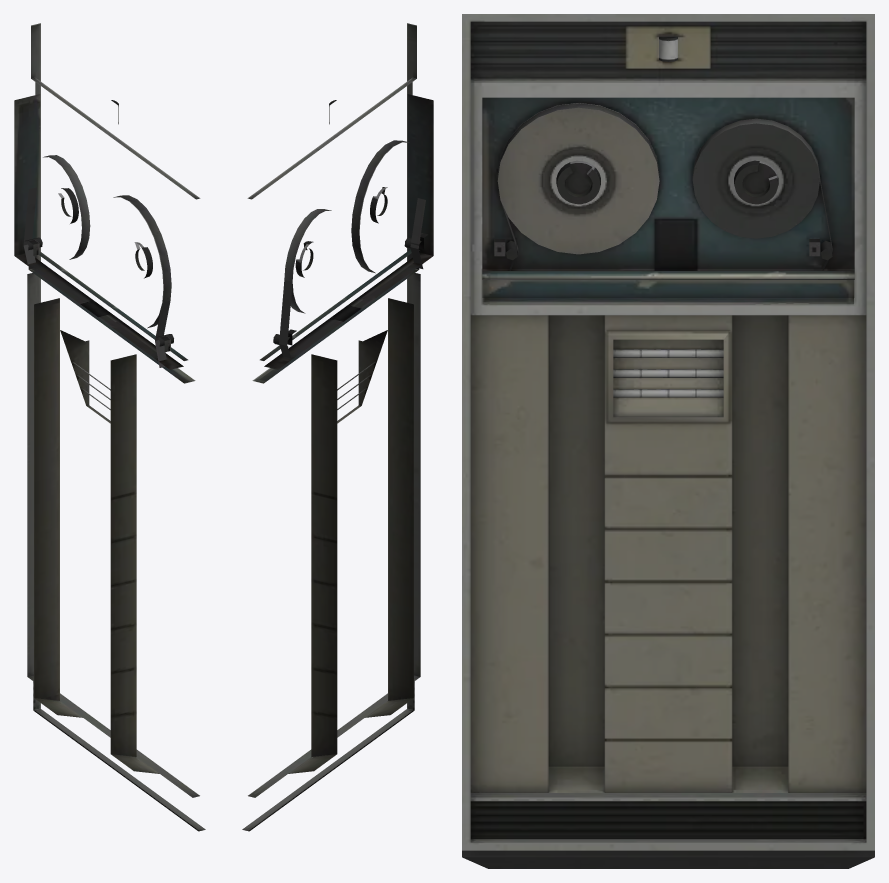
3 views of the same model, side by side, from view 1: azimuth 30°, elevation 25°; view 2: azimuth 150°, elevation 25°; view 3: azimuth 270°, elevation 25° (orthographic). The views are drawn at different scales.
Parts seen in each view (by area): view 1: body0_model0_lod0_mesh0; view 2: body0_model0_lod0_mesh0; view 3: body0_model0_lod0_mesh0.
Boxes of the visible parts, <box> form: body0_model0_lod0_mesh0: <box>14,23,205,831</box>; body0_model0_lod0_mesh0: <box>242,23,433,831</box>; body0_model0_lod0_mesh0: <box>462,14,874,868</box>.
Size of the model in its own units: 6.49 by 112 by 47.99.
1 material, 1 textured.
